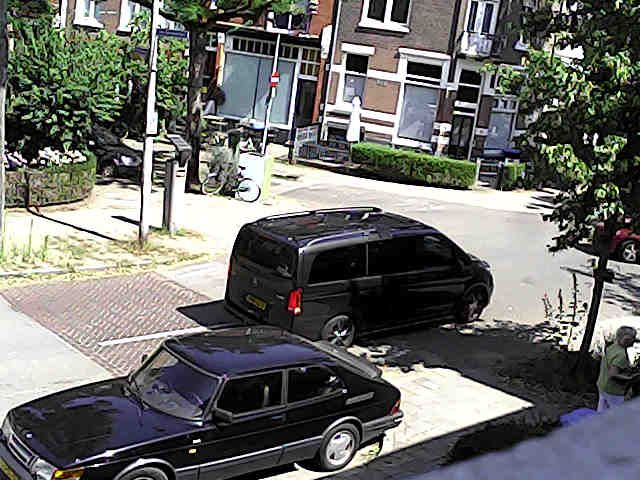suv: (0, 326, 401, 479), (609, 218, 639, 263)
whitevan: (225, 207, 493, 345)
